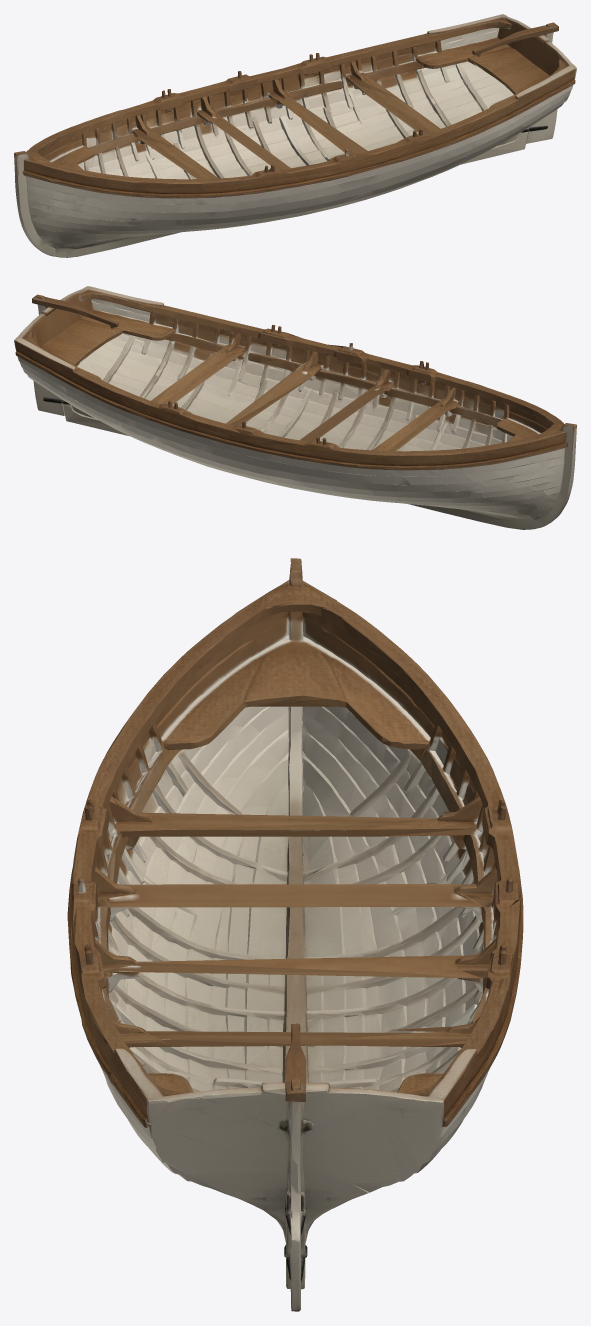
Rendered from boat_light.glb.
3 views of the same model, one above another, from view 1: azimuth 30°, elevation 25°; view 2: azimuth 150°, elevation 25°; view 3: azimuth 270°, elevation 25° (orthographic). The views are drawn at different scales.
Visible parts, largest first — view 1: output_unwrapped; view 2: output_unwrapped; view 3: output_unwrapped.
Boxes of the visible parts, <box> form: output_unwrapped: <box>14,14,576,257</box>; output_unwrapped: <box>14,286,576,529</box>; output_unwrapped: <box>67,558,523,1311</box>.
Bounding box in the file's own units: 1.9 × 0.3966 × 0.6923.
1 material, 1 textured.
